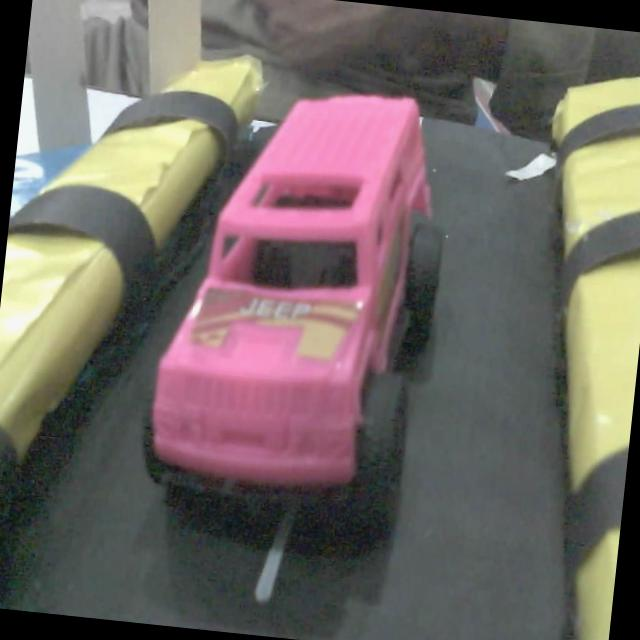OneCar: (118, 48, 507, 567)
